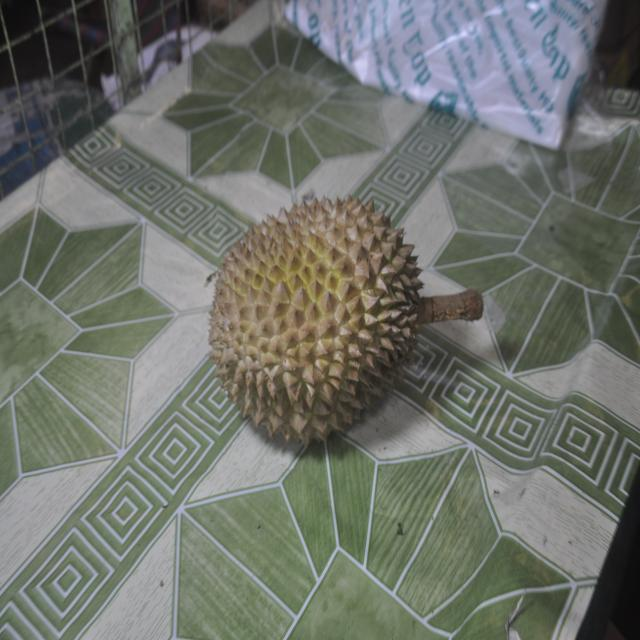mature: (209, 196, 423, 446)
